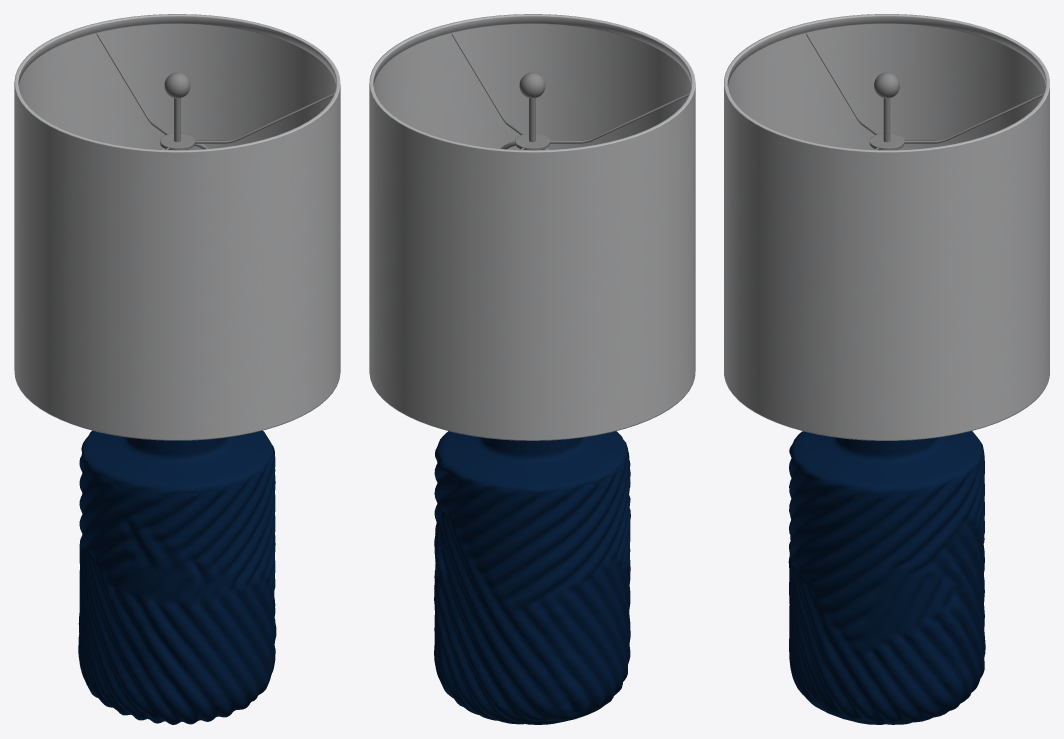
Rendered from abo-B07MBFDHM9.glb.
3 views of the same model, side by side, from view 1: azimuth 30°, elevation 25°; view 2: azimuth 150°, elevation 25°; view 3: azimuth 270°, elevation 25° (orthographic).
Bounding box in the file's own units: 0.24 × 0.511 × 0.24.
1 material, 1 textured.
